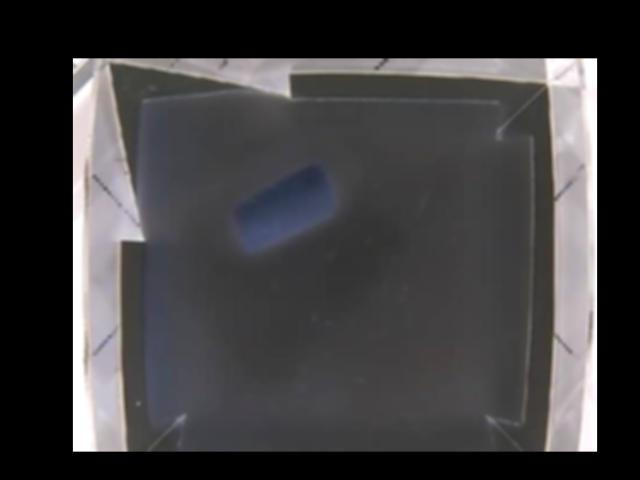Mooli: (229, 164, 332, 253)
